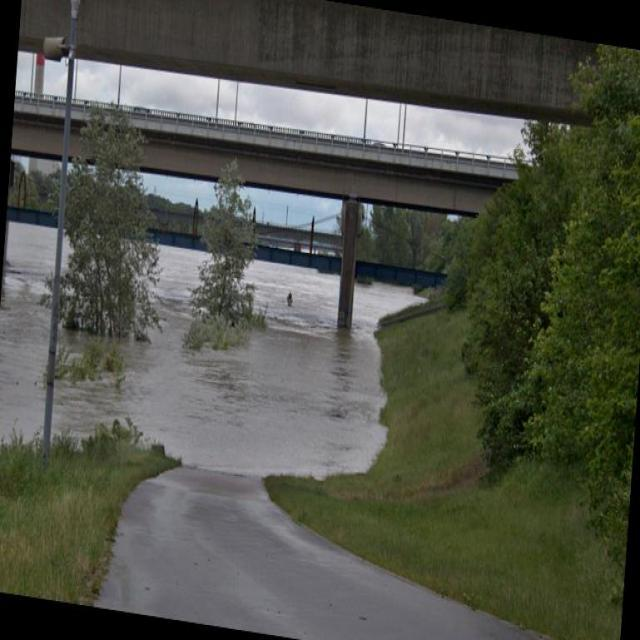flood: (0, 204, 392, 489)
